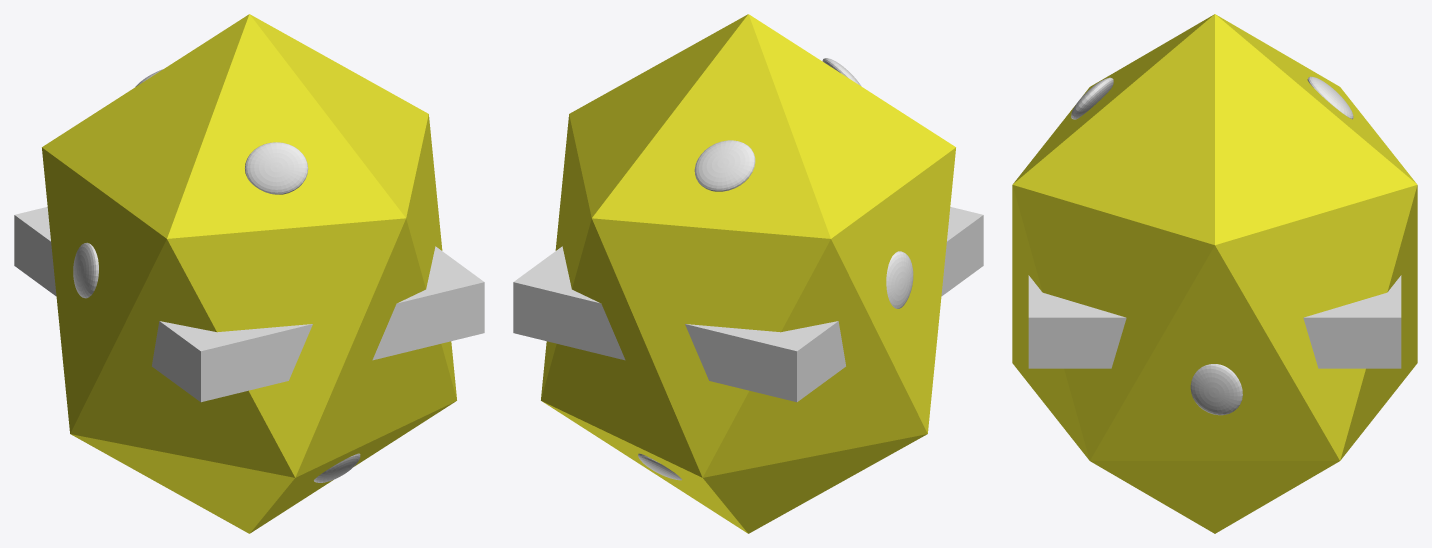
File: Relíquia2.0.fbx
3 views of the same model, side by side, from view 1: azimuth 30°, elevation 25°; view 2: azimuth 150°, elevation 25°; view 3: azimuth 270°, elevation 25° (orthographic).
Visible parts, largest first — view 1: Icosphere, Cube, Sphere, Sphere.005, Sphere.002; view 2: Icosphere, Cube, Sphere.001, Sphere.005; view 3: Icosphere, Cube, Sphere.004, Sphere, Sphere.001.
Boxes of the visible parts, bbox=[...] form: Icosphere: bbox=[42, 14, 456, 533]; Cube: bbox=[14, 207, 484, 402]; Sphere: bbox=[245, 142, 308, 194]; Sphere.005: bbox=[73, 242, 98, 298]; Sphere.002: bbox=[314, 453, 360, 482]; Icosphere: bbox=[541, 14, 955, 533]; Cube: bbox=[513, 207, 983, 402]; Sphere.001: bbox=[694, 140, 755, 191]; Sphere.005: bbox=[886, 251, 913, 308]; Icosphere: bbox=[1012, 14, 1417, 533]; Cube: bbox=[1028, 275, 1401, 368]; Sphere.004: bbox=[1190, 364, 1242, 415]; Sphere: bbox=[1071, 77, 1113, 119]; Sphere.001: bbox=[1307, 76, 1353, 119].
Size of the model in its own units: 211 by 293 by 207.
